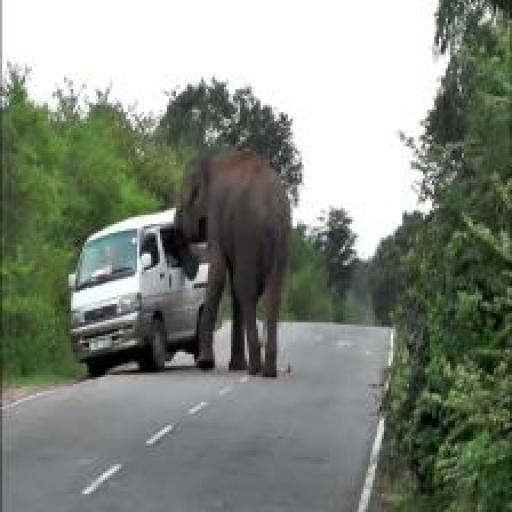Elephant: (172, 146, 292, 386)
